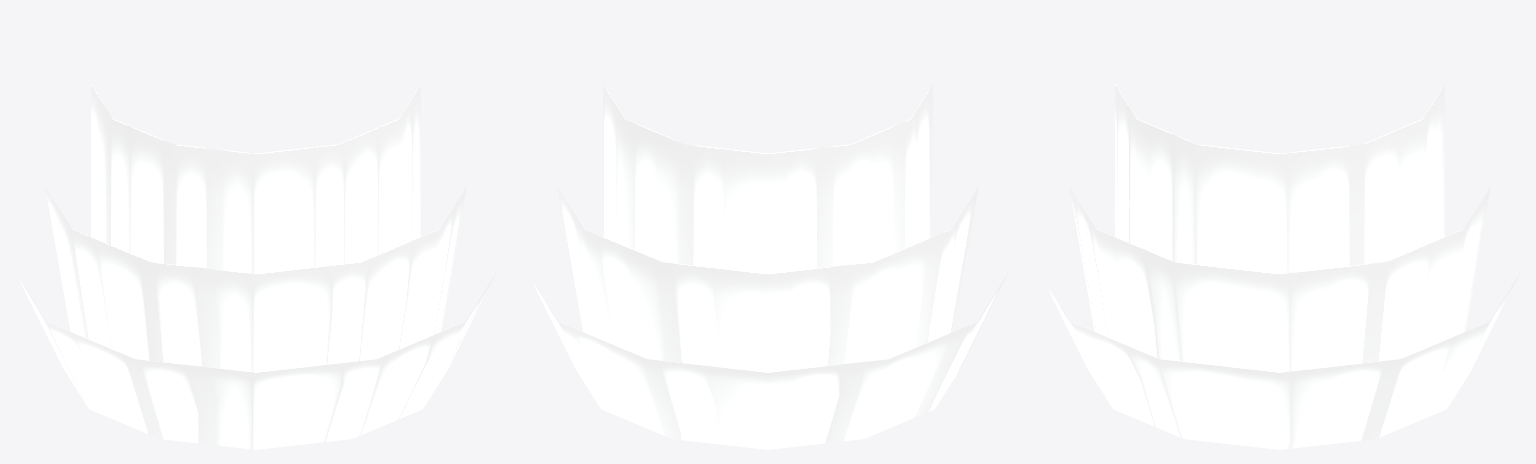
Rendered from sfx_common_condition_white.glb.
3 renders of one model, left to right at view 1: azimuth 30°, elevation 25°; view 2: azimuth 150°, elevation 25°; view 3: azimuth 270°, elevation 25°, orthographic.
Visible parts, largest first — view 1: sfx_common_condition_white_obj0, sfx_common_condition_white_obj1, sfx_common_condition_white_obj2; view 2: sfx_common_condition_white_obj0, sfx_common_condition_white_obj1, sfx_common_condition_white_obj2; view 3: sfx_common_condition_white_obj0, sfx_common_condition_white_obj1, sfx_common_condition_white_obj2.
Boxes of the visible parts, left/top/right/bottom form: sfx_common_condition_white_obj0: left=91, top=84, right=420, bottom=273; sfx_common_condition_white_obj1: left=45, top=185, right=466, bottom=372; sfx_common_condition_white_obj2: left=16, top=273, right=495, bottom=449; sfx_common_condition_white_obj0: left=603, top=84, right=932, bottom=273; sfx_common_condition_white_obj1: left=557, top=185, right=978, bottom=372; sfx_common_condition_white_obj2: left=528, top=273, right=1007, bottom=449; sfx_common_condition_white_obj0: left=1115, top=84, right=1444, bottom=273; sfx_common_condition_white_obj1: left=1069, top=185, right=1490, bottom=372; sfx_common_condition_white_obj2: left=1040, top=273, right=1519, bottom=449.
Size of the model in its own units: 0.7606 by 0.4948 by 0.7606.
Materials: 1 (1 with a texture image).
